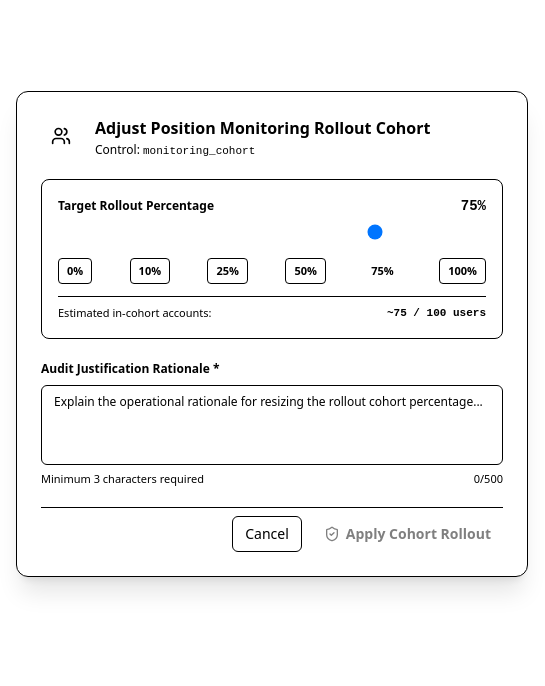
Test: Phase Admin-4b: AdminCohortControl Tests › handles 409 conflict when cohort state was modified concurrently
This screenshot has width=545, height=686.
Replace the text in the text box with placeholder "Explain the operational rationale" with "Scale cohort to 100%" at (272, 425), box [41, 385, 503, 465]
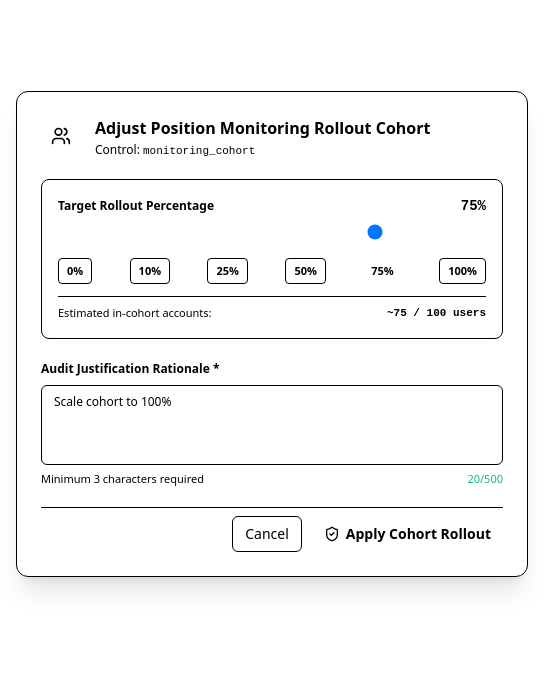
Click the button "Apply Cohort Rollout" at (407, 534), box [312, 516, 503, 552]
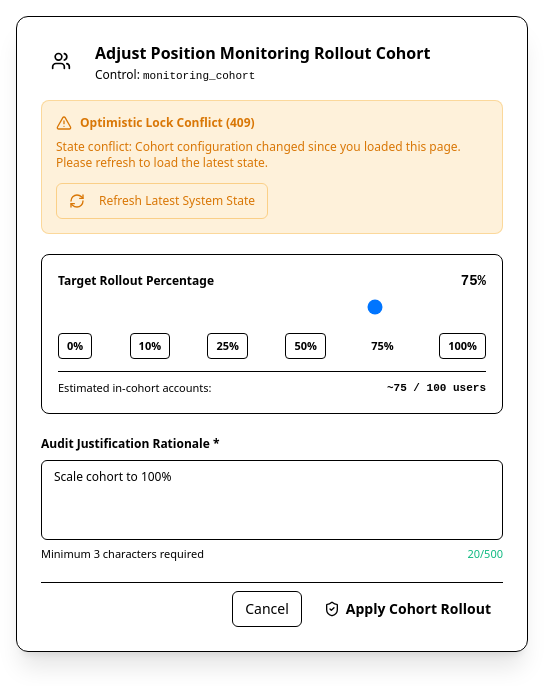
Now the text "Optimistic Lock Conflict (409)" is shown, box [80, 115, 255, 131]
